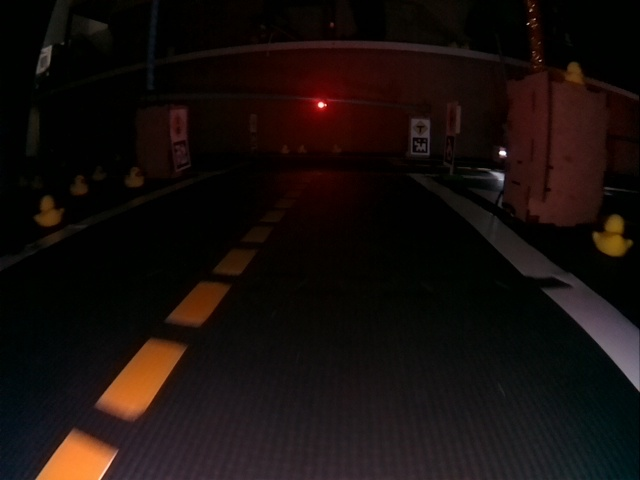Duckie: (595, 214, 630, 253), (36, 196, 59, 224), (562, 62, 585, 85), (127, 167, 142, 187), (70, 177, 88, 193)
Intersection sign: (413, 119, 430, 135)
QR code: (172, 141, 191, 168), (412, 139, 430, 155)
Traffic light: (318, 101, 327, 111)
